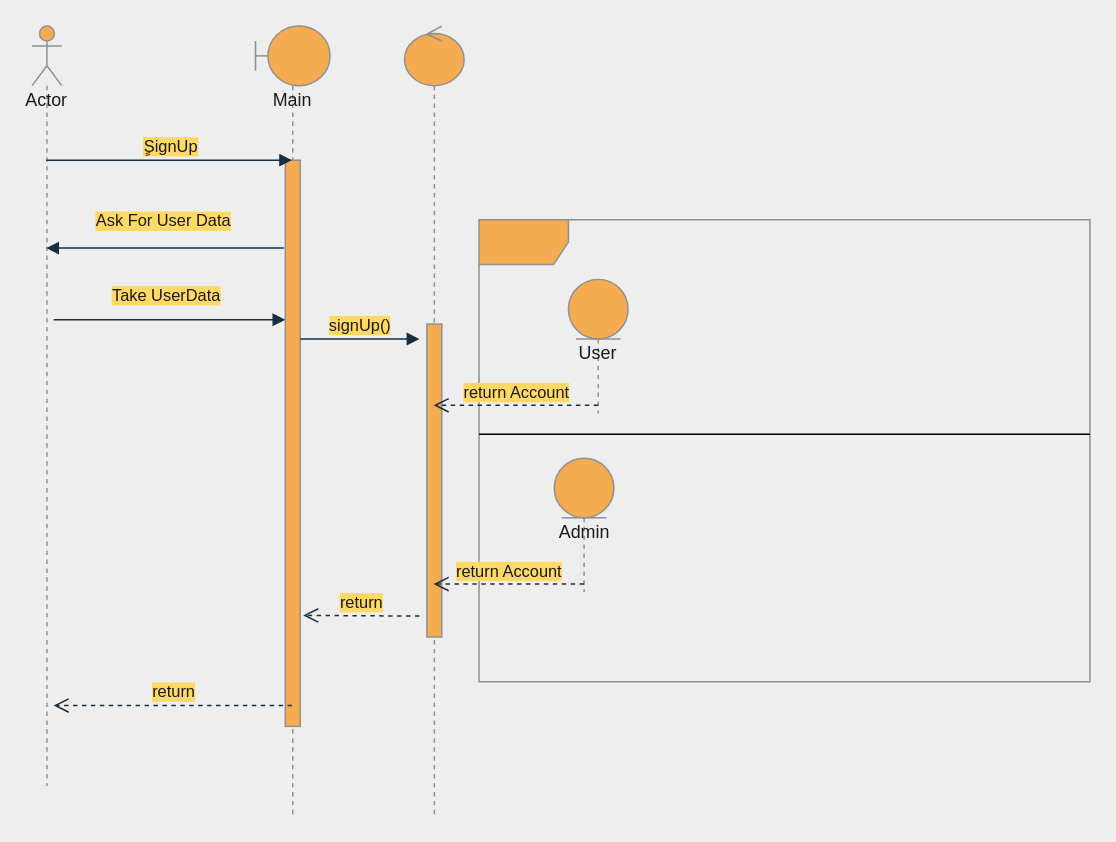
The diagram is 1116 pixels wide and 842 high, and some of its shapes have lost their labels. The box of each missing label's shape, as (x1, y1, x2, y2) in pixels:
Account Creation: (478, 218, 1090, 682)
MySystem: (403, 25, 464, 816)
